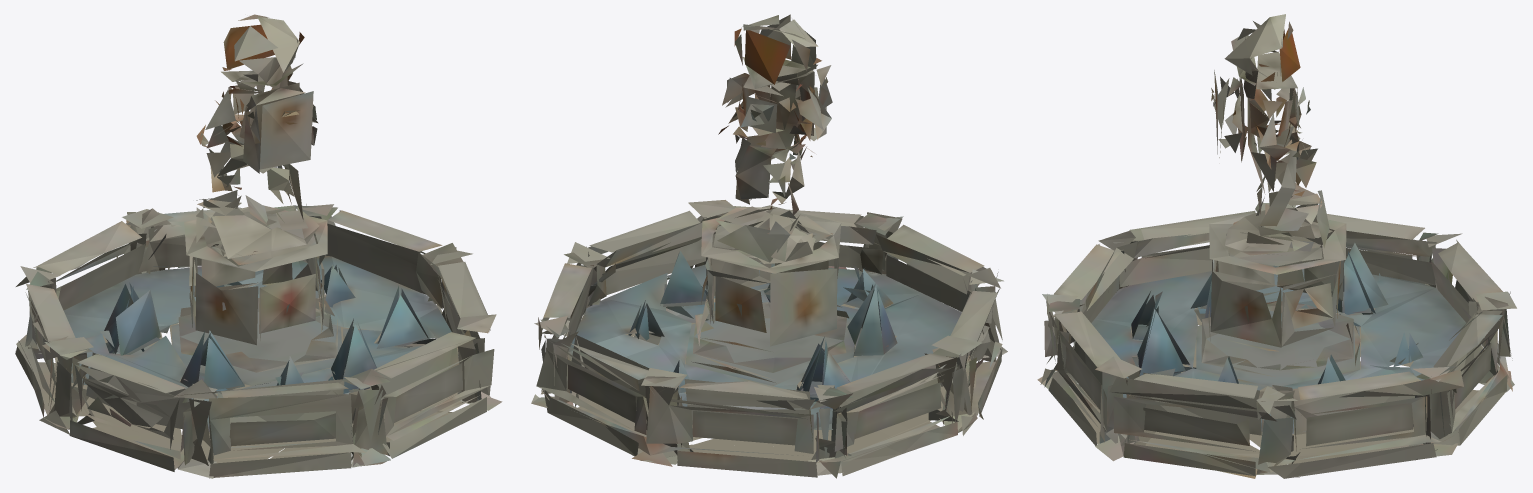
The model's file is statue-fontaine-bas.glb.
3 renders of one model, left to right at view 1: azimuth 30°, elevation 25°; view 2: azimuth 150°, elevation 25°; view 3: azimuth 270°, elevation 25°, orthographic.
Parts seen in each view (by area): view 1: statue-fontaine-bas; view 2: statue-fontaine-bas; view 3: statue-fontaine-bas.
Boxes of the visible parts, x1,y1,x2,y2 form: statue-fontaine-bas: (15,14,502,478); statue-fontaine-bas: (531,14,1007,478); statue-fontaine-bas: (1037,14,1516,478).
Size of the model in its own units: 3.97 by 3.36 by 4.
Materials: 1 (1 with a texture image).
